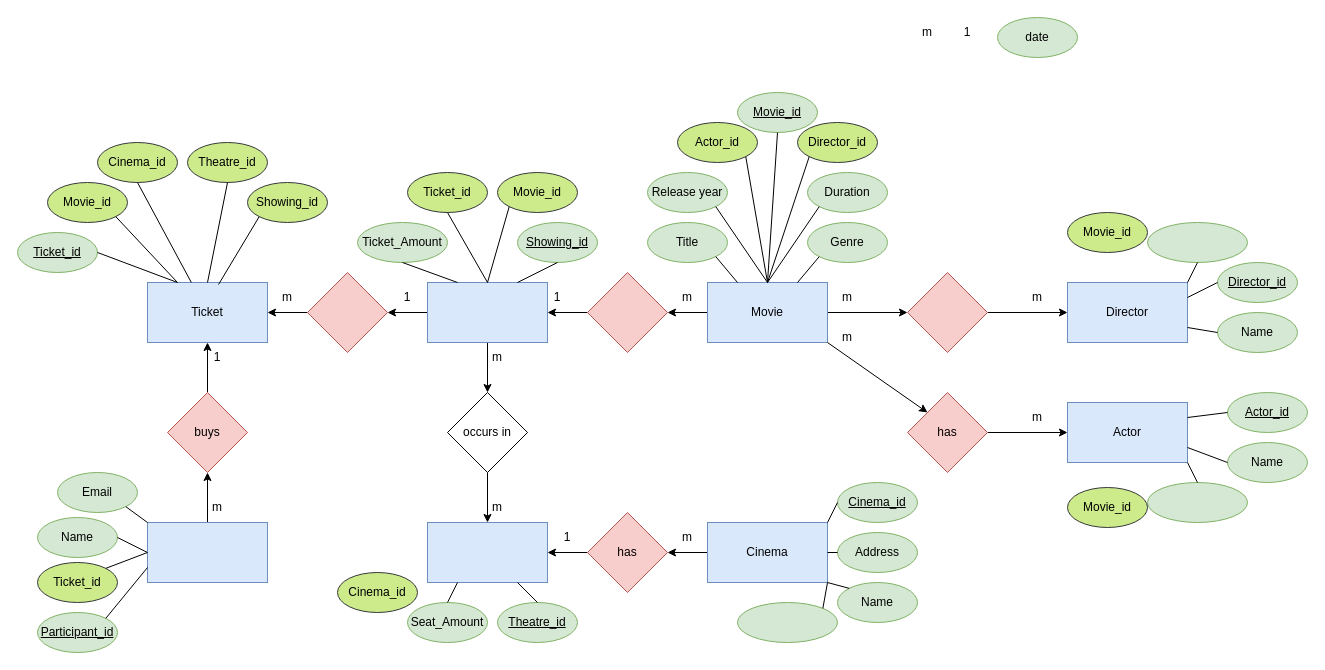
Image size: 1325x670. Some labels were removed from this diagram. The shapes that lost their labels are listed below. From the top down, each one's centre as x and y in pixels, then its label:
(1197,242): Director_birthyear
(347,312): requires
(487,312): Showing
(627,312): plays at
(947,312): has a
(1197,502): Actor_birthyear
(207,552): Participant
(487,552): Theatre
(787,622): Theatre_Amount
